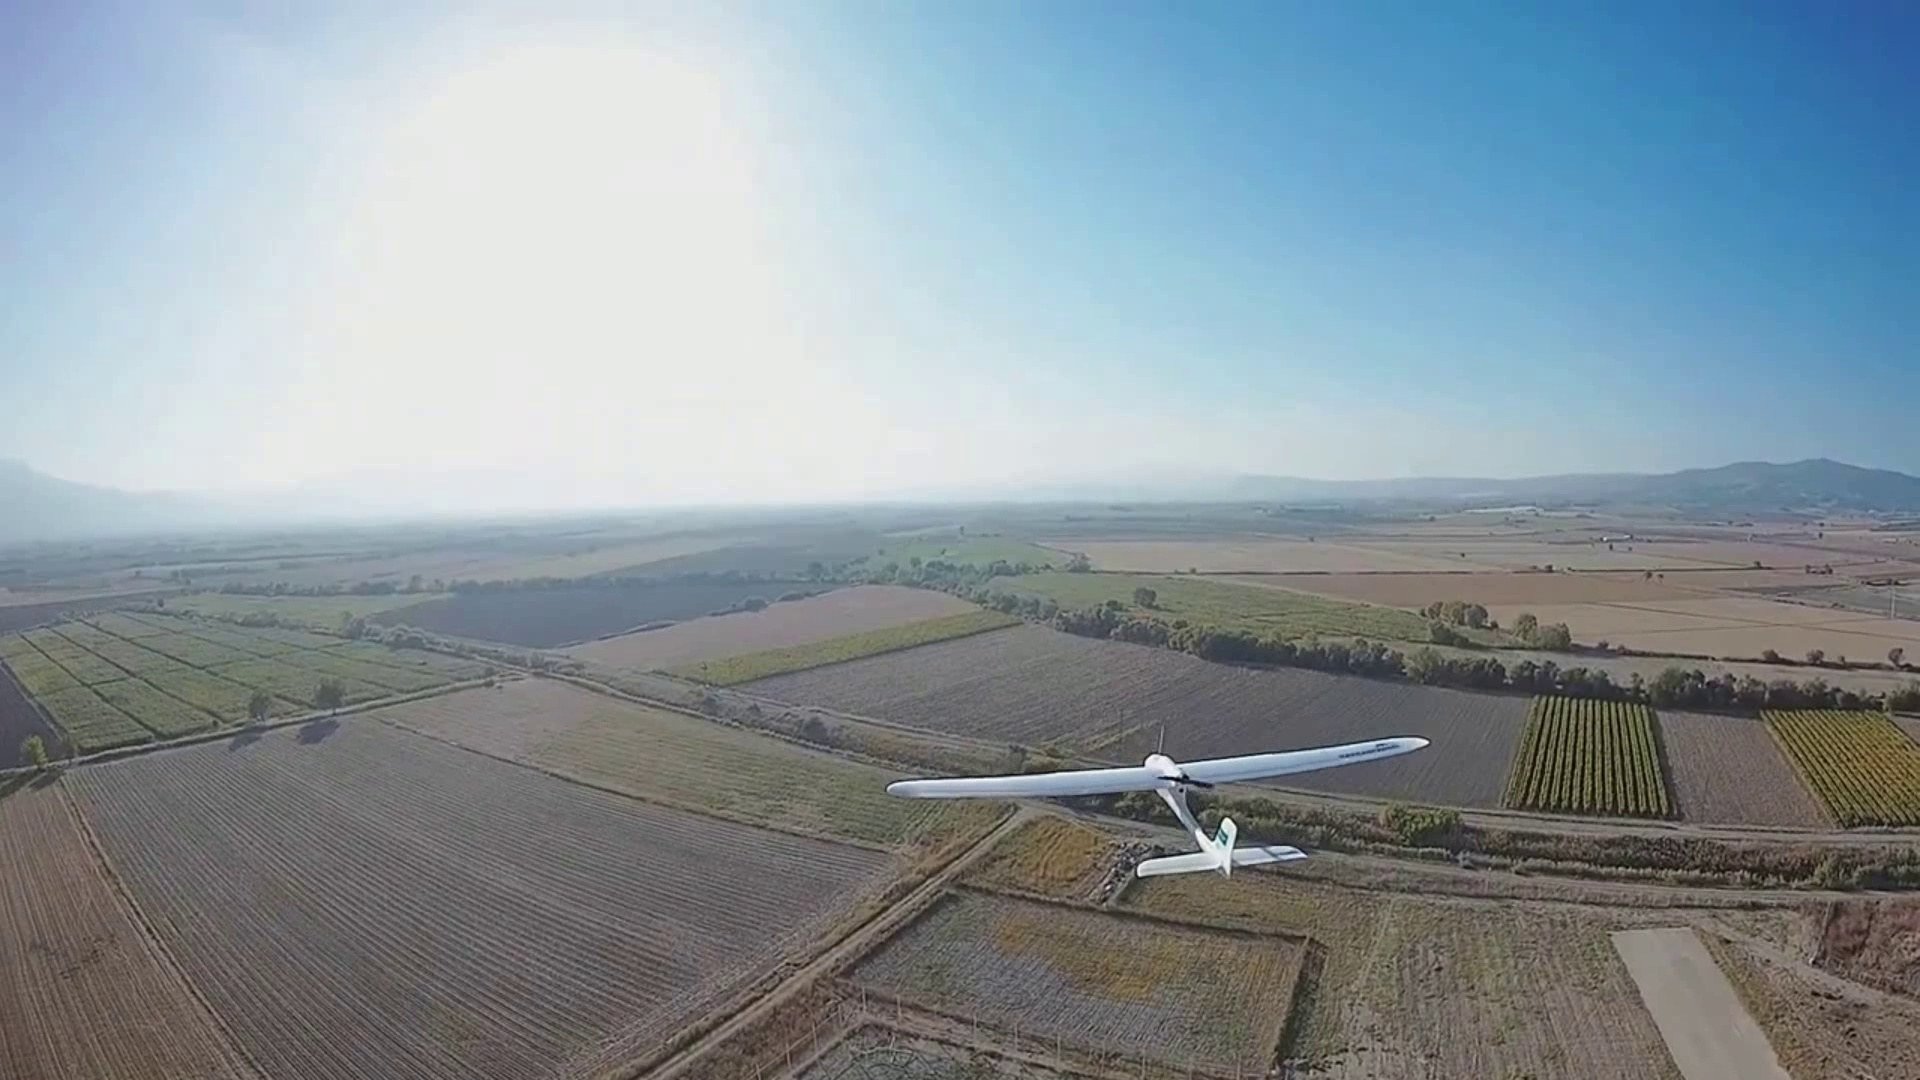airplane: (881, 731, 1432, 880)
